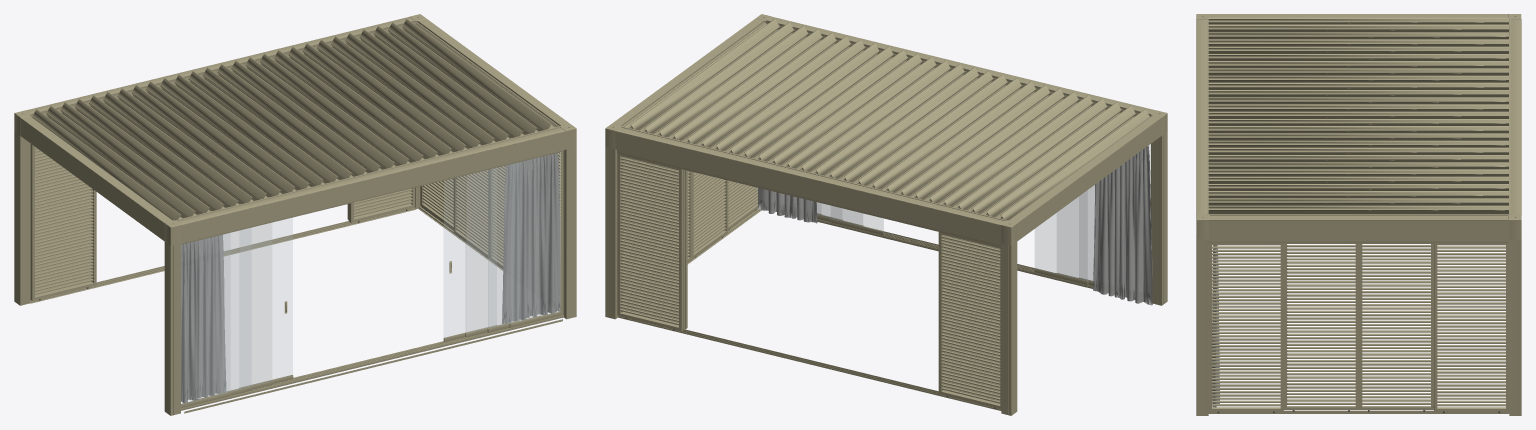
File: CamargueSkyeTC.glb
The picture shows the model from 3 angles, left to right: view 1: azimuth 30°, elevation 25°; view 2: azimuth 150°, elevation 25°; view 3: azimuth 270°, elevation 25°; orthographic projection. The views are drawn at different scales.
Parts seen in each view (by area): view 1: Pivot.011, CurtainCloth.007, mesh_23_instance_2.003, mesh_23_instance_3.003, mesh_23_instance_1.003, mesh_23_instance_0.003, mesh_23_instance_5.003, CurtainCloth_1.007, GlassWallWithHandle_1.003, mesh_23_instance_4.003, GlassWallWithHandle.003, Span_1.011 (+45 smaller); view 2: Pivot_1.011, CurtainCloth_1.007, Span_1.011, GlassWallWithHandle.003, mesh_23_instance_4.003, Pivot.011, Span.011, mesh_113_instance_12, mesh_113_instance_25, mesh_113_instance_8, mesh_113_instance_11, mesh_113_instance_20 (+45 smaller); view 3: Span.011, mesh_113_instance_0, Pivot.011, Pivot_1.011, mesh_113_instance_1, mesh_113_instance_10, mesh_113_instance_14, mesh_113_instance_19, mesh_113_instance_23, mesh_113_instance_5, mesh_113_instance_11, mesh_113_instance_13 (+33 smaller).
Boxes of the visible parts, x1,y1,x2,y2 form: Pivot.011: [175, 126, 566, 243]; CurtainCloth.007: [502, 153, 560, 323]; mesh_23_instance_2.003: [198, 228, 251, 398]; mesh_23_instance_3.003: [488, 157, 540, 328]; mesh_23_instance_1.003: [510, 152, 560, 323]; mesh_23_instance_0.003: [181, 233, 230, 403]; mesh_23_instance_5.003: [466, 165, 509, 332]; CurtainCloth_1.007: [181, 235, 225, 402]; GlassWallWithHandle_1.003: [444, 170, 487, 337]; mesh_23_instance_4.003: [230, 223, 271, 390]; GlassWallWithHandle.003: [251, 218, 292, 384]; Span_1.011: [20, 115, 172, 241]; Pivot_1.011: [615, 126, 1006, 243]; CurtainCloth_1.007: [1093, 145, 1152, 305]; Span_1.011: [1009, 115, 1161, 241]; GlassWallWithHandle.003: [1035, 190, 1087, 280]; mesh_23_instance_4.003: [1057, 185, 1094, 281]; Pivot.011: [766, 17, 1155, 116]; Span.011: [612, 19, 766, 127]; mesh_113_instance_12: [800, 60, 950, 173]; mesh_113_instance_25: [985, 105, 1135, 218]; mesh_113_instance_8: [743, 46, 893, 159]; mesh_113_instance_11: [786, 57, 936, 169]; mesh_113_instance_20: [914, 88, 1064, 200]; Span.011: [1208, 214, 1509, 239]; mesh_113_instance_0: [1208, 205, 1508, 213]; Pivot.011: [1196, 18, 1208, 233]; Pivot_1.011: [1509, 18, 1521, 214]; mesh_113_instance_1: [1208, 198, 1508, 205]; mesh_113_instance_10: [1208, 133, 1508, 140]; mesh_113_instance_14: [1208, 104, 1508, 111]; mesh_113_instance_19: [1208, 68, 1508, 75]; mesh_113_instance_23: [1208, 39, 1508, 46]; mesh_113_instance_5: [1208, 169, 1508, 176]; mesh_113_instance_11: [1208, 126, 1508, 133]; mesh_113_instance_13: [1208, 111, 1508, 118].
Bounding box in the file's own units: 12 × 5.47 × 8.
16 materials, 1 textured.
